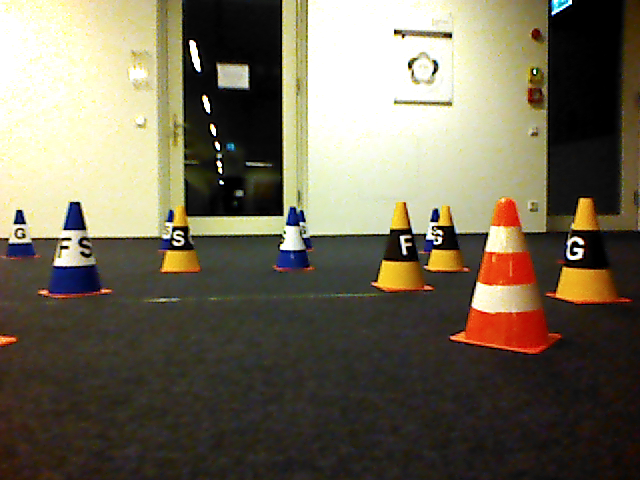bluecone: (36, 201, 114, 299), (275, 207, 313, 273)
orangeconesmall: (448, 197, 565, 356)
yellowcone: (548, 197, 633, 305), (373, 200, 434, 294)
